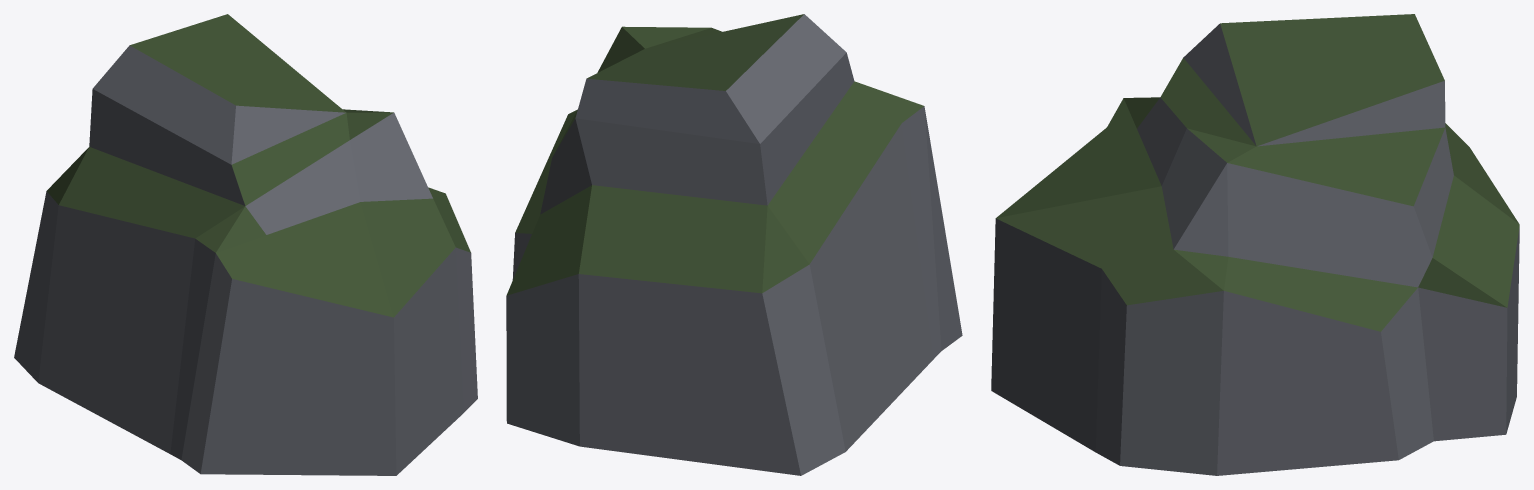
The model's file is rock_moss_7.glb.
The picture shows the model from 3 angles, left to right: view 1: azimuth 30°, elevation 25°; view 2: azimuth 150°, elevation 25°; view 3: azimuth 270°, elevation 25°; orthographic projection. The views are drawn at different scales.
Parts seen in each view (by area): view 1: rock_moss_7; view 2: rock_moss_7; view 3: rock_moss_7.
Part boxes in pixels (x1,y1,x2,y2): rock_moss_7: [14, 14, 477, 475]; rock_moss_7: [506, 14, 962, 475]; rock_moss_7: [991, 14, 1519, 475].
Bounding box in the file's own units: 0.4783 × 0.4228 × 0.6.
